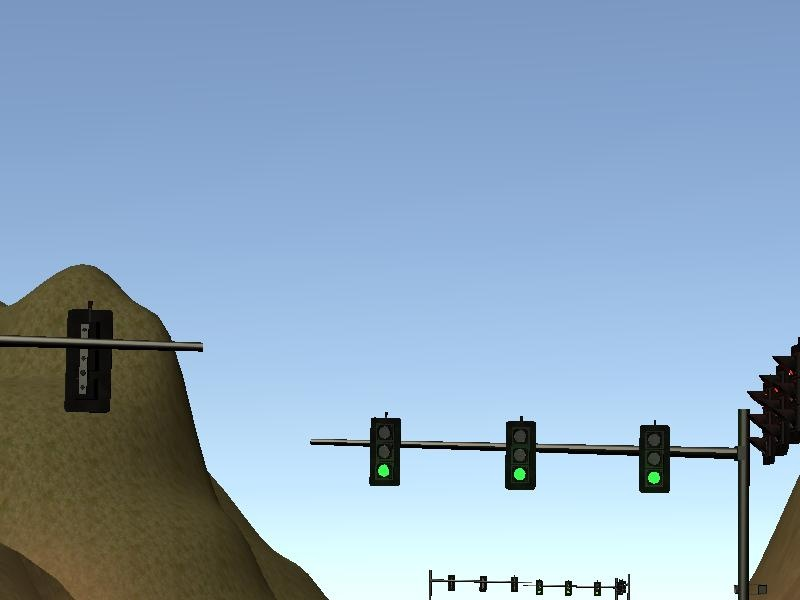traffic_light_green: (347, 413, 728, 494)
